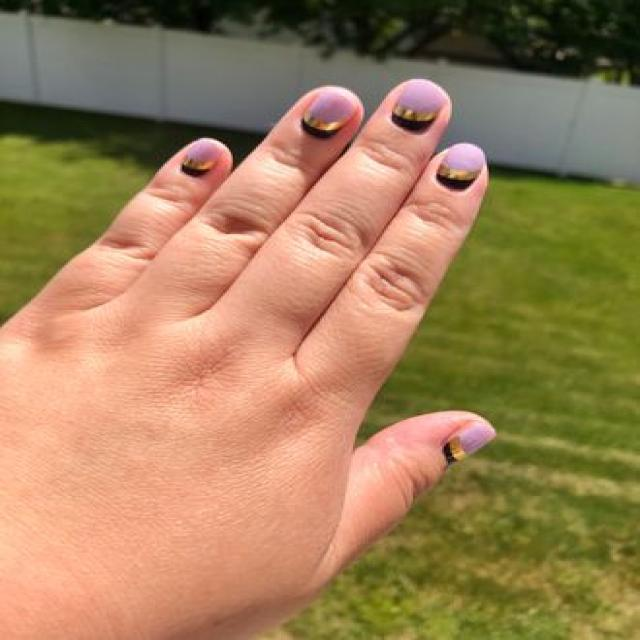Nail: (391, 80, 449, 132), (301, 88, 359, 138), (442, 419, 495, 464), (436, 142, 486, 189), (181, 139, 220, 176)
